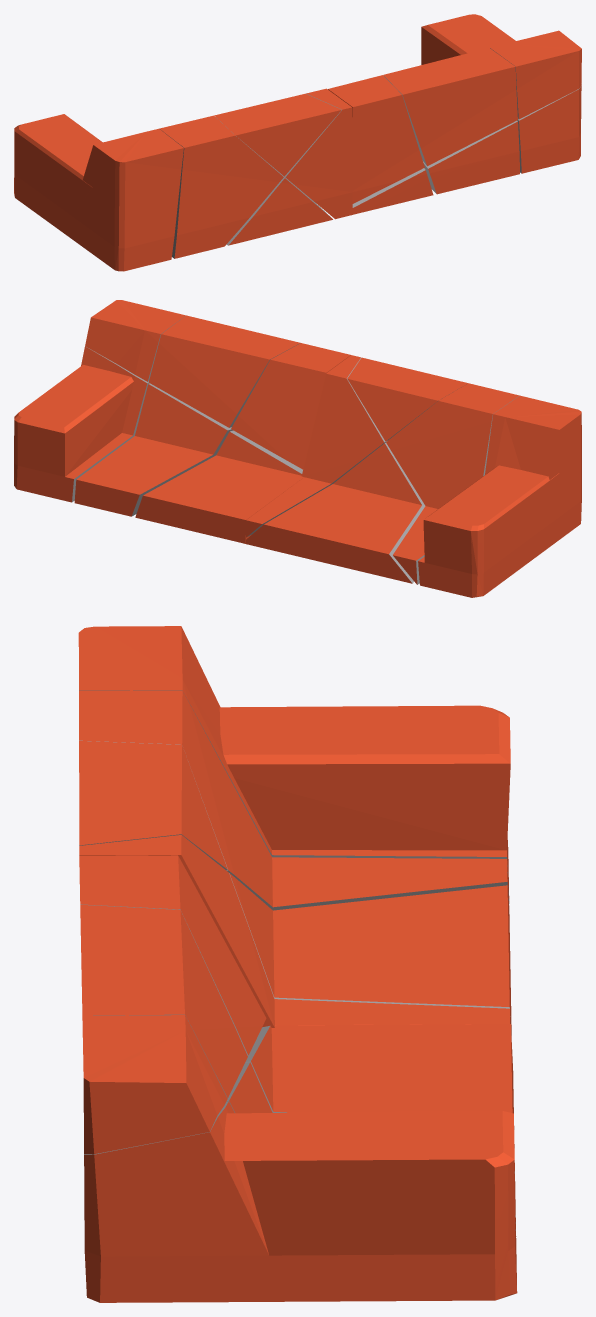
Rendered from Sofa_DEST.fbx.
The picture shows the model from 3 angles, top to bottom: view 1: azimuth 30°, elevation 25°; view 2: azimuth 150°, elevation 25°; view 3: azimuth 270°, elevation 25°; orthographic projection. The views are drawn at different scales.
Visible parts, largest first — view 1: model:mesh924622577.007, model:mesh924622577.010, model:mesh924622577.006, model:mesh924622577.001, model:mesh924622577.003, model:mesh924622577.011, model:mesh924622577.009, model:mesh924622577.004, model:mesh924622577.005, model:mesh924622577.008, model:mesh924622577.002; view 2: model:mesh924622577.007, model:mesh924622577.001, model:mesh924622577.008, model:mesh924622577.010, model:mesh924622577.002, model:mesh924622577.005, model:mesh924622577.006, model:mesh924622577.003, model:mesh924622577.009, model:mesh924622577.011, model:mesh924622577.004; view 3: model:mesh924622577.001, model:mesh924622577.007, model:mesh924622577.008, model:mesh924622577.002, model:mesh924622577.010, model:mesh924622577.004, model:mesh924622577.006, model:mesh924622577.011, model:mesh924622577.009, model:mesh924622577.003, model:mesh924622577.005.
Boxes of the visible parts, left/top/right/bottom form: model:mesh924622577.007: left=14, top=114, right=183, bottom=271; model:mesh924622577.010: left=159, top=115, right=283, bottom=258; model:mesh924622577.006: left=383, top=48, right=517, bottom=166; model:mesh924622577.001: left=421, top=14, right=581, bottom=173; model:mesh924622577.003: left=328, top=75, right=424, bottom=203; model:mesh924622577.011: left=214, top=93, right=341, bottom=176; model:mesh924622577.009: left=284, top=88, right=352, bottom=219; model:mesh924622577.004: left=490, top=30, right=581, bottom=119; model:mesh924622577.005: left=423, top=120, right=519, bottom=194; model:mesh924622577.008: left=226, top=167, right=332, bottom=245; model:mesh924622577.002: left=349, top=168, right=433, bottom=215; model:mesh924622577.007: left=418, top=395, right=581, bottom=597; model:mesh924622577.001: left=14, top=346, right=149, bottom=502; model:mesh924622577.008: left=246, top=442, right=425, bottom=583; model:mesh924622577.010: left=386, top=383, right=519, bottom=584; model:mesh924622577.002: left=135, top=430, right=303, bottom=543; model:mesh924622577.005: left=74, top=383, right=233, bottom=516; model:mesh924622577.006: left=148, top=315, right=300, bottom=427; model:mesh924622577.003: left=231, top=343, right=350, bottom=469; model:mesh924622577.009: left=246, top=355, right=386, bottom=537; model:mesh924622577.011: left=347, top=357, right=467, bottom=441; model:mesh924622577.004: left=85, top=300, right=185, bottom=381; model:mesh924622577.001: left=84, top=1101, right=517, bottom=1302; model:mesh924622577.007: left=78, top=626, right=510, bottom=900; model:mesh924622577.008: left=229, top=873, right=511, bottom=1034; model:mesh924622577.002: left=245, top=1024, right=514, bottom=1173; model:mesh924622577.010: left=79, top=690, right=509, bottom=910; model:mesh924622577.004: left=82, top=1015, right=227, bottom=1154; model:mesh924622577.006: left=80, top=904, right=247, bottom=1098; model:mesh924622577.011: left=79, top=741, right=227, bottom=870; model:mesh924622577.009: left=79, top=835, right=510, bottom=1027; model:mesh924622577.003: left=79, top=855, right=266, bottom=1055; model:mesh924622577.005: left=226, top=1062, right=516, bottom=1236.
Size of the model in its own units: 9.42 by 2.12 by 3.81.
